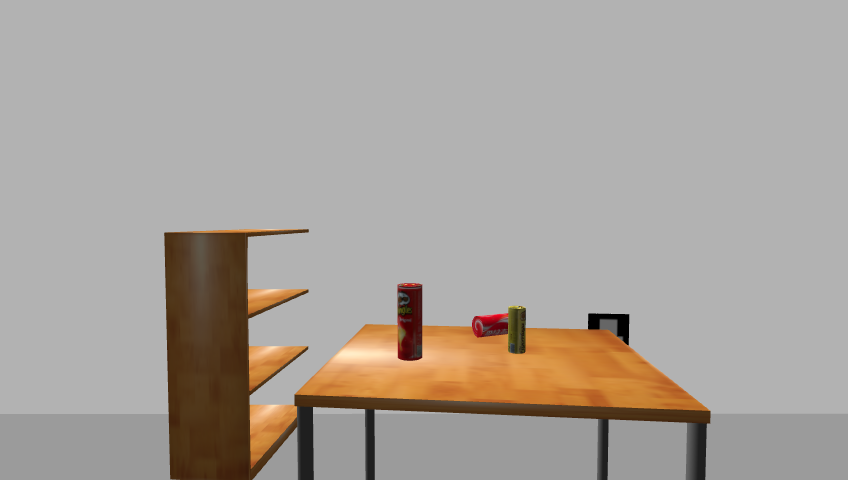aruco marker: (583, 312, 634, 350)
biscuits pack: (507, 306, 527, 355)
bookshelf: (159, 226, 316, 480)
coke can: (470, 313, 511, 339)
dinner table: (288, 322, 719, 479)
pringles can: (395, 282, 425, 363)
